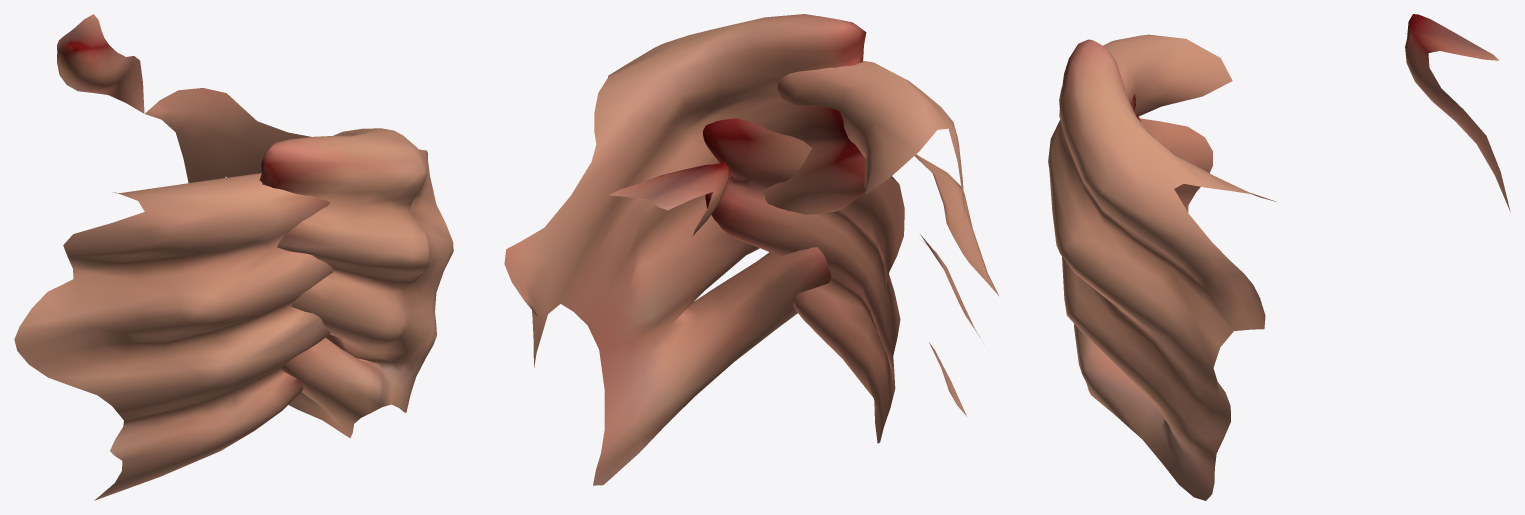
The model's file is lyly-maos.glb.
3 views of the same model, side by side, from view 1: azimuth 30°, elevation 25°; view 2: azimuth 150°, elevation 25°; view 3: azimuth 270°, elevation 25° (orthographic). The views are drawn at different scales.
Visible parts, largest first — view 1: Dir, Esq; view 2: Esq, Dir; view 3: Esq, Dir.
Boxes of the visible parts, <box> form: Dir: <box>14,173,333,500</box>; Esq: <box>57,14,453,437</box>; Esq: <box>504,14,866,485</box>; Dir: <box>703,60,999,443</box>; Esq: <box>1048,14,1510,500</box>; Dir: <box>1059,34,1232,212</box>.
Size of the model in its own units: 0.1282 by 0.0986 by 0.1094.
